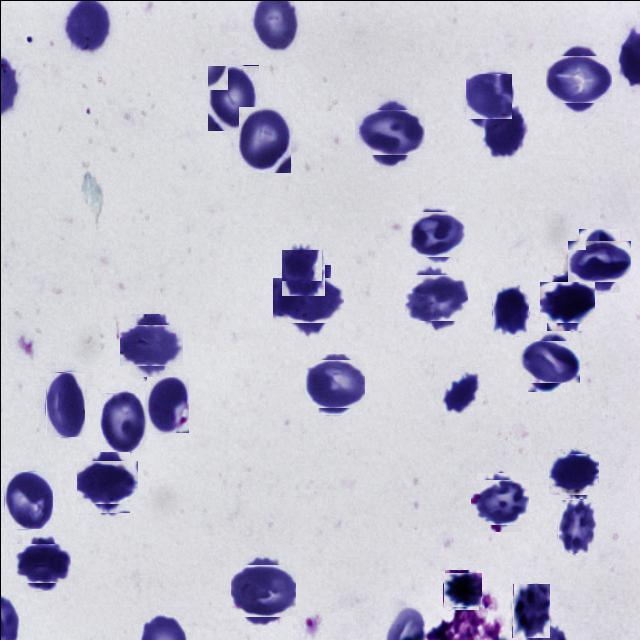red blood cell: (232, 560, 292, 620), (206, 64, 258, 130), (238, 106, 290, 172), (278, 270, 336, 328), (360, 102, 418, 160), (550, 49, 606, 106), (306, 356, 362, 411), (408, 269, 463, 324), (124, 318, 178, 371), (81, 455, 133, 508), (4, 471, 52, 528), (572, 234, 624, 286), (409, 207, 461, 259), (472, 476, 524, 528), (522, 334, 574, 386), (100, 392, 144, 451), (45, 371, 84, 436), (482, 105, 528, 158), (146, 376, 188, 432), (18, 538, 66, 586), (542, 278, 590, 326), (557, 498, 597, 552), (550, 450, 596, 496), (465, 72, 511, 118), (512, 582, 550, 637), (280, 248, 324, 295), (491, 283, 528, 335), (440, 366, 480, 413), (442, 571, 480, 608)
